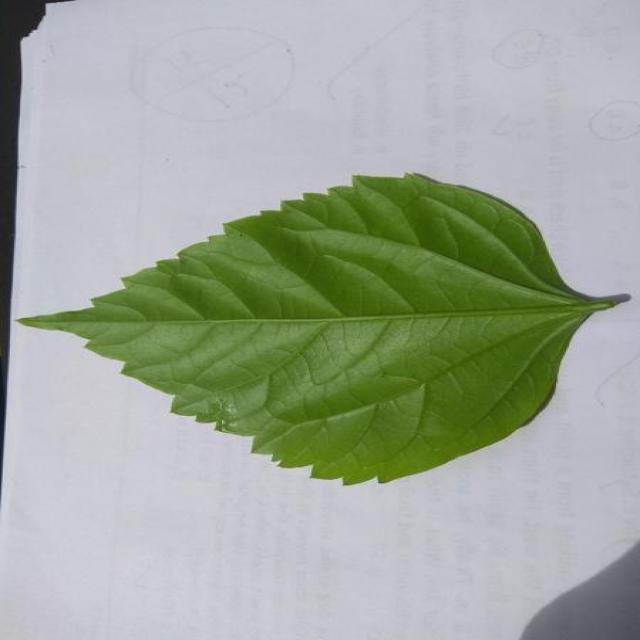Hibiscus: (20, 175, 628, 483)
